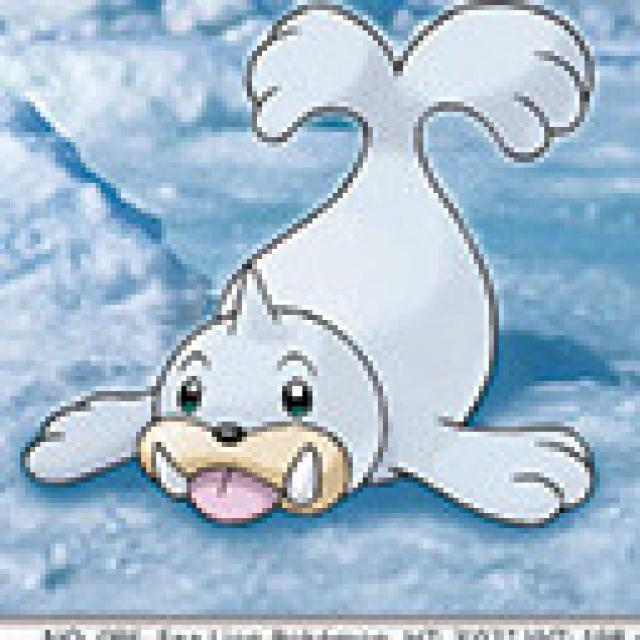Seel: (143, 0, 600, 526)
